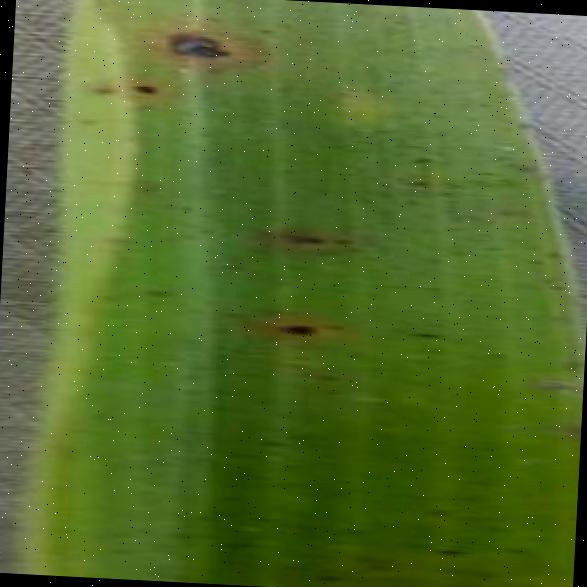Brown_Spot: (156, 18, 231, 69), (262, 216, 328, 258), (262, 308, 322, 344), (523, 370, 581, 394), (546, 409, 580, 444), (413, 495, 453, 522), (297, 364, 345, 386), (428, 536, 472, 560), (96, 224, 140, 248), (124, 73, 164, 99), (350, 553, 396, 575), (84, 75, 120, 102), (206, 254, 249, 276), (218, 532, 260, 554), (165, 524, 209, 544), (130, 172, 165, 195), (249, 430, 288, 450), (402, 322, 440, 342), (308, 567, 346, 584), (481, 515, 511, 536), (491, 200, 528, 217), (323, 230, 354, 250), (402, 148, 433, 168), (464, 162, 498, 180), (507, 112, 534, 134), (138, 282, 172, 299), (497, 540, 532, 556), (550, 353, 582, 370), (339, 343, 367, 362), (520, 250, 546, 270), (175, 228, 201, 248), (270, 160, 296, 178), (482, 343, 509, 360), (73, 111, 103, 126), (177, 134, 202, 152), (512, 160, 538, 177), (315, 316, 343, 331), (336, 522, 366, 536), (444, 244, 470, 260), (403, 174, 427, 189), (540, 279, 564, 294), (355, 192, 379, 206), (400, 194, 420, 210), (172, 199, 193, 214), (542, 244, 564, 258), (254, 21, 274, 36), (478, 241, 504, 252), (440, 176, 462, 189), (392, 170, 408, 184), (476, 97, 490, 108)
